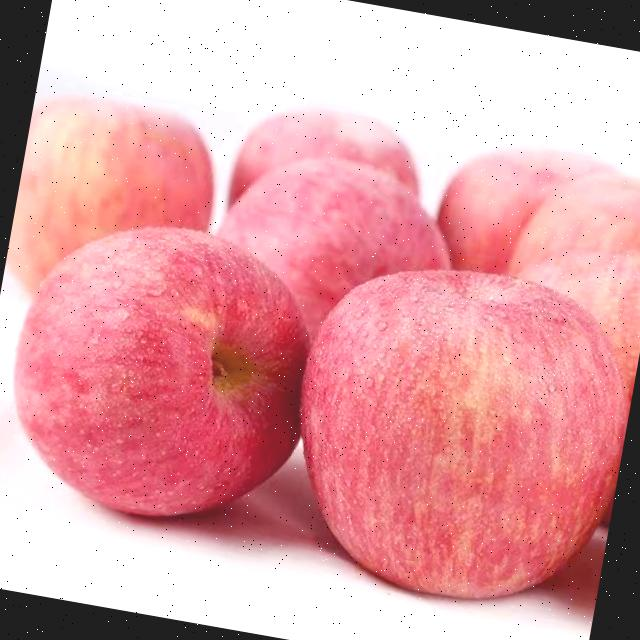apple: (252, 227, 640, 638), (0, 171, 349, 573), (178, 128, 487, 418), (0, 54, 253, 348), (463, 172, 640, 549), (190, 44, 458, 252), (430, 100, 628, 295), (490, 139, 640, 324)
